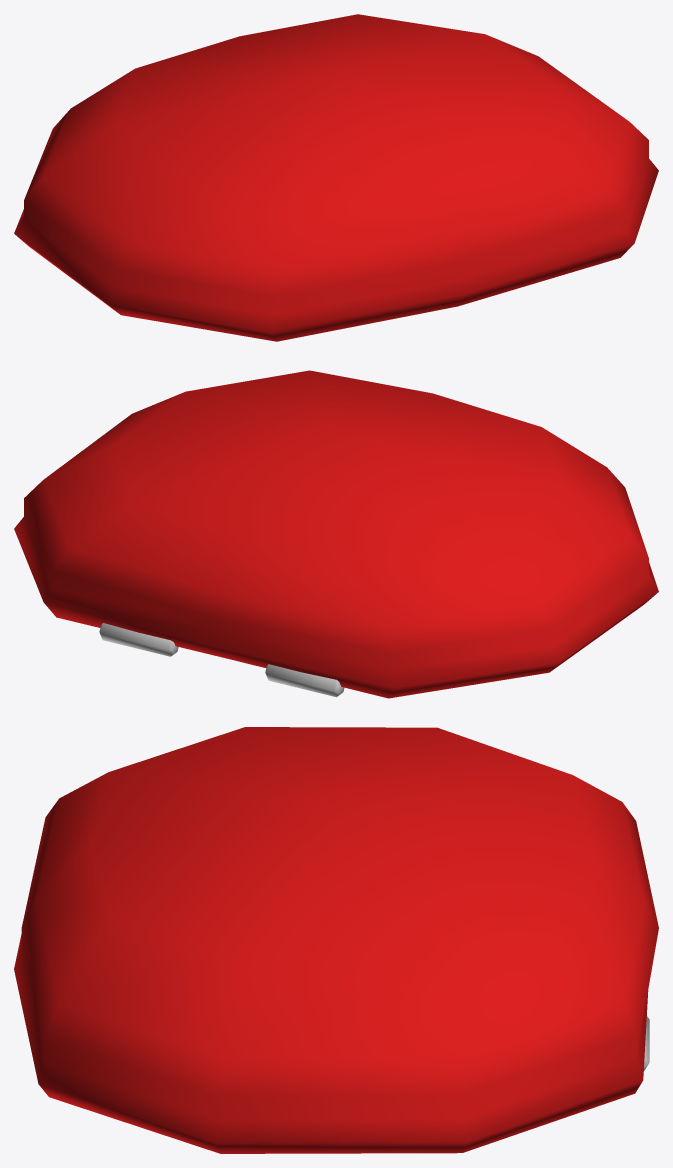
Rendered from dfk_chest_01_top.fbx.
3 views of the same model, one above another, from view 1: azimuth 30°, elevation 25°; view 2: azimuth 150°, elevation 25°; view 3: azimuth 270°, elevation 25° (orthographic). The views are drawn at different scales.
Parts seen in each view (by area): view 1: Chest_01_top; view 2: Chest_01_top; view 3: Chest_01_top.
Part boxes in pixels (<box>): Chest_01_top: <box>14,14,658,341</box>; Chest_01_top: <box>14,370,658,698</box>; Chest_01_top: <box>14,727,658,1153</box>.
Size of the model in its own units: 0.6482 by 0.1685 by 0.5084.
